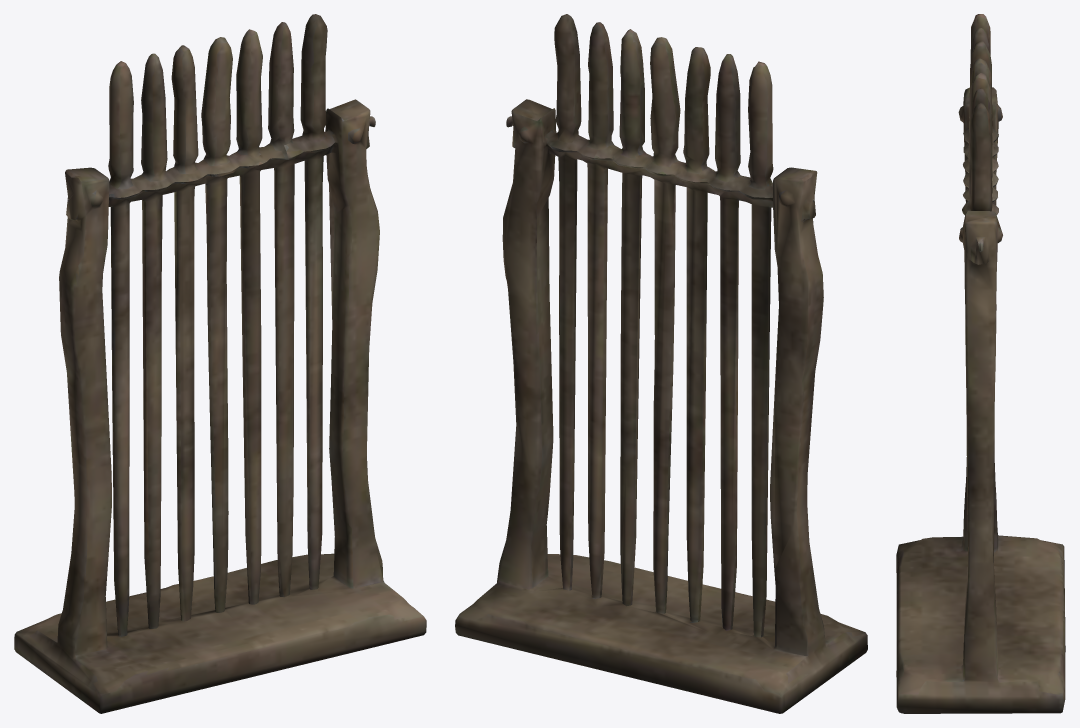
File: rustic-wood-weapon-rack-v001.glb
3 views of the same model, side by side, from view 1: azimuth 30°, elevation 25°; view 2: azimuth 150°, elevation 25°; view 3: azimuth 270°, elevation 25° (orthographic). The views are drawn at different scales.
Parts seen in each view (by area): view 1: rustic-wood-weapon-rack; view 2: rustic-wood-weapon-rack; view 3: rustic-wood-weapon-rack.
Part boxes in pixels (box(x1,y1,x2,y2)): rustic-wood-weapon-rack: box(14, 14, 426, 713); rustic-wood-weapon-rack: box(455, 14, 867, 713); rustic-wood-weapon-rack: box(896, 14, 1065, 713).
Bounding box in the file's own units: 1 × 1.79 × 0.4717.
1 material, 1 textured.
